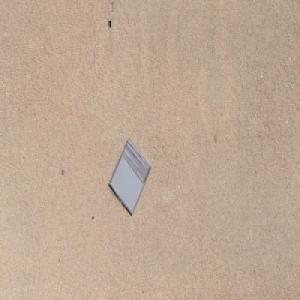PlasticPart: (108, 136, 152, 216)
